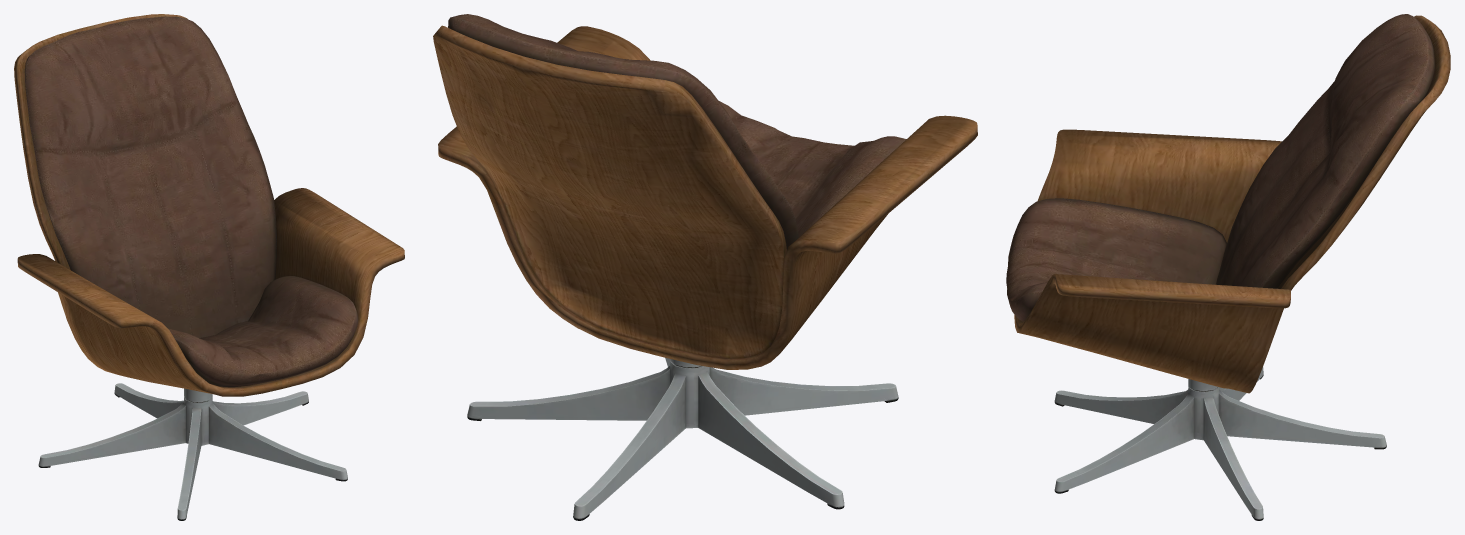
The model's file is mid_century_lounge_chair.glb.
3 views of the same model, side by side, from view 1: azimuth 30°, elevation 25°; view 2: azimuth 150°, elevation 25°; view 3: azimuth 270°, elevation 25° (orthographic). The views are drawn at different scales.
Visible parts, largest first — view 1: mid_century_lounge_chair; view 2: mid_century_lounge_chair; view 3: mid_century_lounge_chair.
Boxes of the visible parts, x1,y1,x2,y2 form: mid_century_lounge_chair: (14,14,404,520); mid_century_lounge_chair: (433,14,977,520); mid_century_lounge_chair: (1006,14,1450,520).
Size of the model in its own units: 1.01 by 1.17 by 1.19.
Materials: 1 (1 with a texture image).
